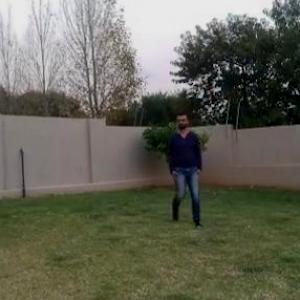follow: (172, 107, 202, 226)
